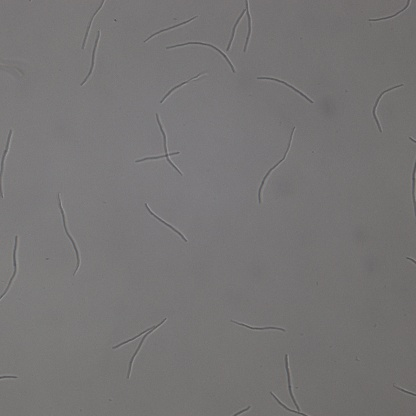Sensitive: (112, 317, 167, 379), (136, 110, 184, 174), (257, 127, 295, 204), (269, 353, 308, 416), (167, 39, 235, 72), (57, 193, 83, 276), (144, 203, 188, 244), (256, 74, 314, 103), (371, 84, 403, 131), (225, 1, 253, 53), (144, 15, 197, 40), (1, 235, 21, 299), (79, 31, 101, 86), (161, 74, 204, 101), (81, 1, 104, 49), (369, 1, 410, 24), (230, 320, 286, 336)
